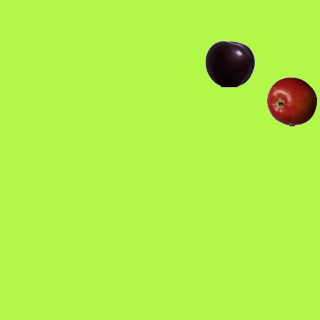Apple Braeburn: (266, 76, 316, 126)
Cherry Wax Black: (204, 38, 254, 88)
